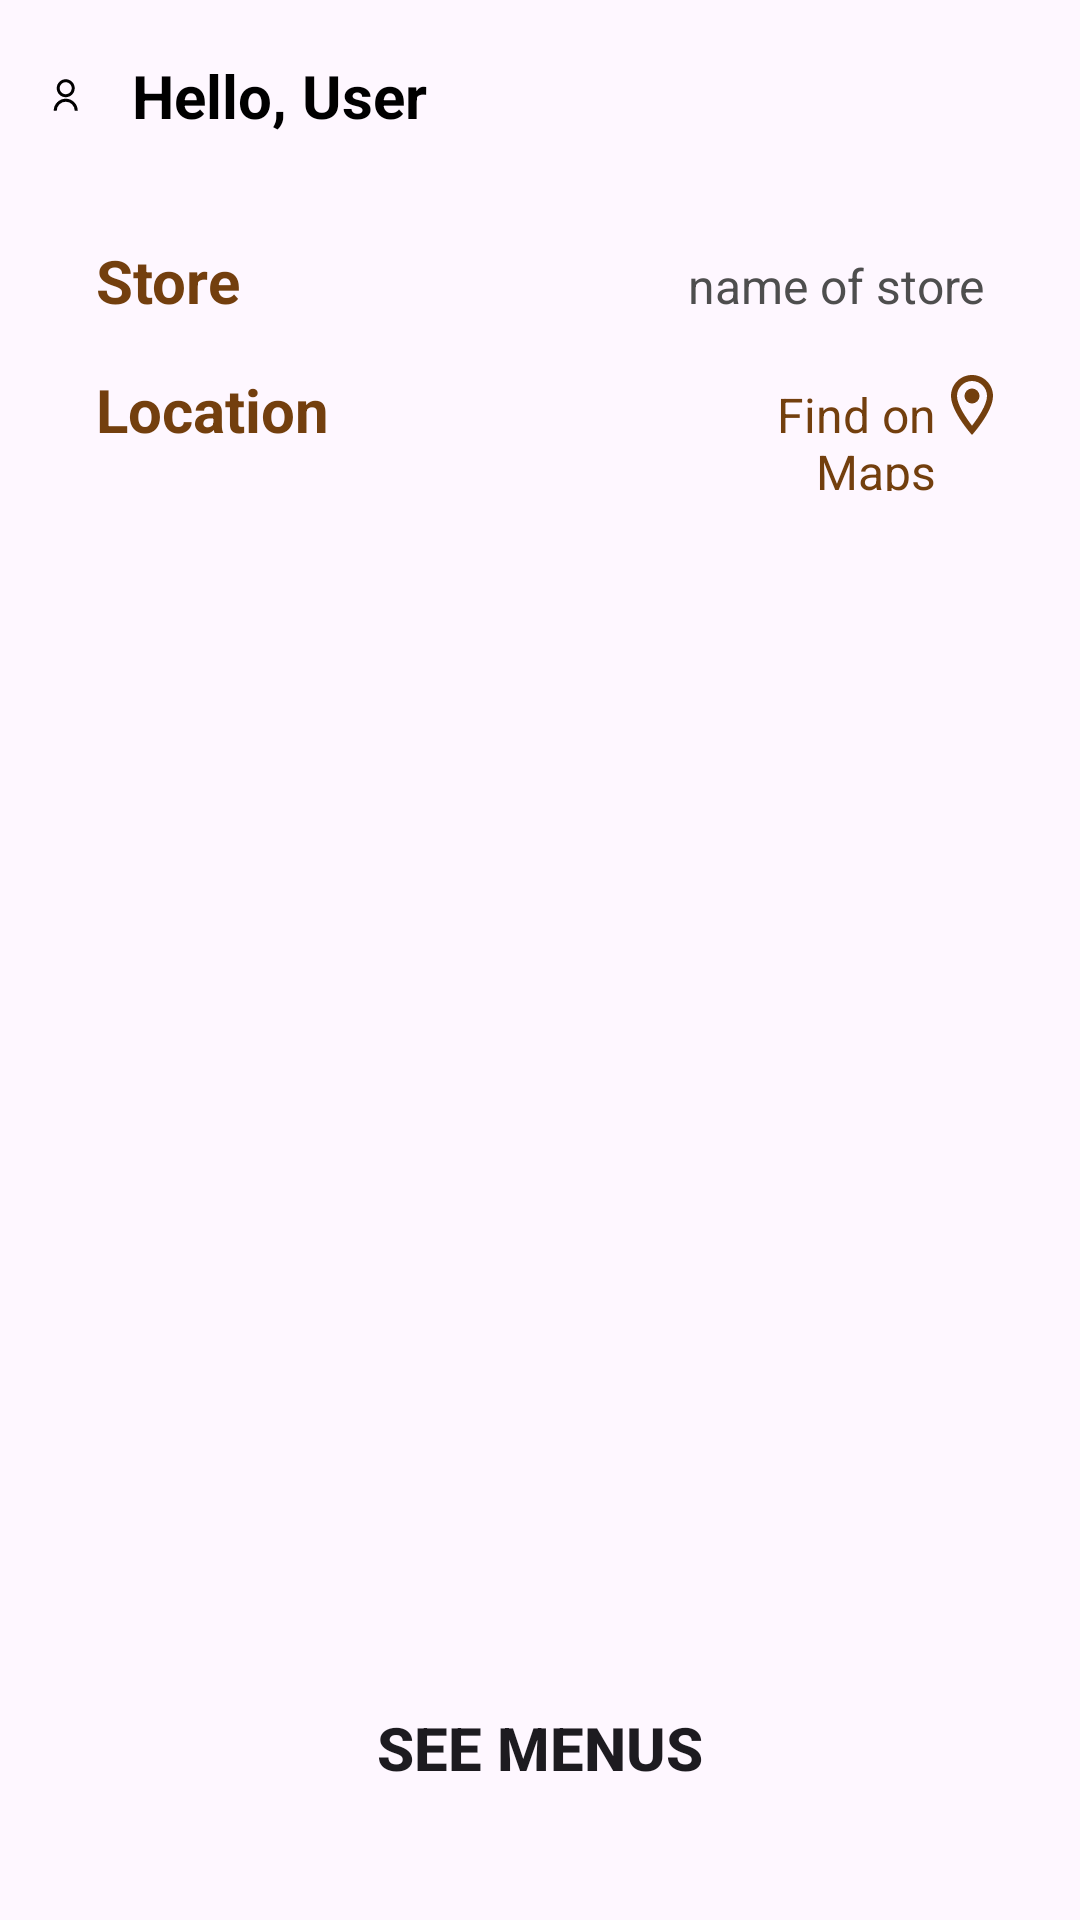

Screen size 1080 x 1920. Icon name, then its box in pixels as [x1=x1, y1=y1, x2=x2, y2=y2]:
icon profile: [x1=53, y1=79, x2=78, y2=111]
